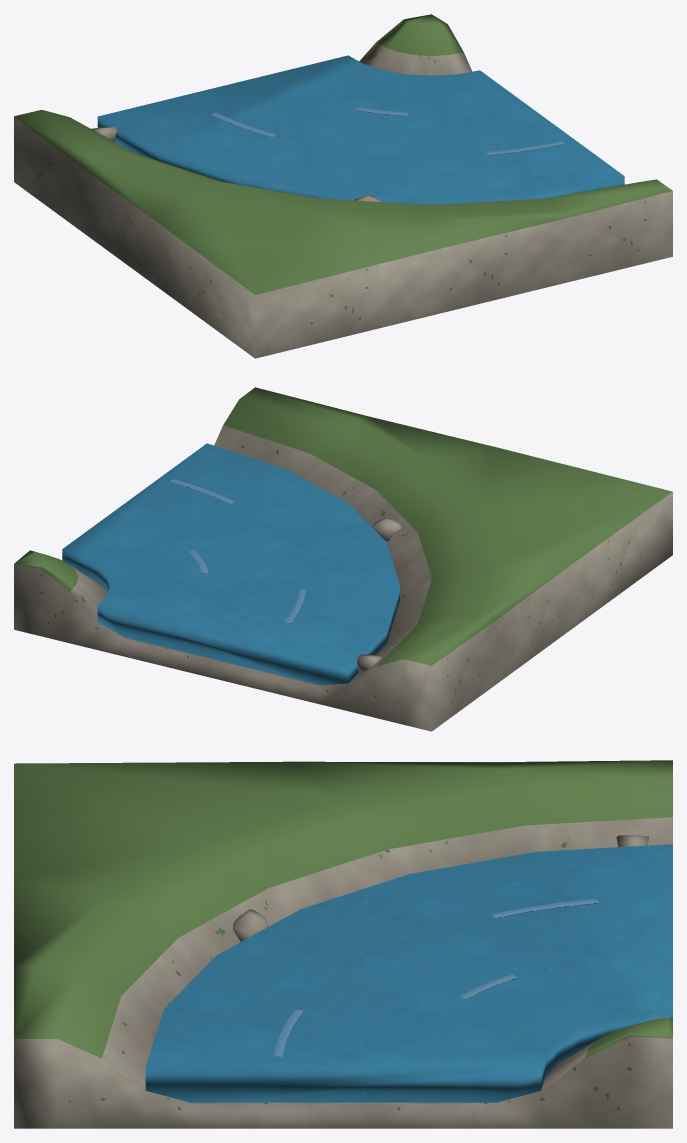
The model's file is river.bend.glb.
The picture shows the model from 3 angles, top to bottom: view 1: azimuth 30°, elevation 25°; view 2: azimuth 150°, elevation 25°; view 3: azimuth 270°, elevation 25°; orthographic projection. The views are drawn at different scales.
Parts seen in each view (by area): view 1: scenery.river.bend.mesh, ripples; view 2: scenery.river.bend.mesh, ripples; view 3: scenery.river.bend.mesh, ripples.
Boxes of the visible parts, <box> form: scenery.river.bend.mesh: <box>14,14,672,358</box>; ripples: <box>211,107,564,155</box>; scenery.river.bend.mesh: <box>14,387,672,731</box>; ripples: <box>169,479,306,623</box>; scenery.river.bend.mesh: <box>14,760,672,1128</box>; ripples: <box>273,898,598,1057</box>.
Size of the model in its own units: 6 by 0.9294 by 6.
Materials: 4 (3 with a texture image).
